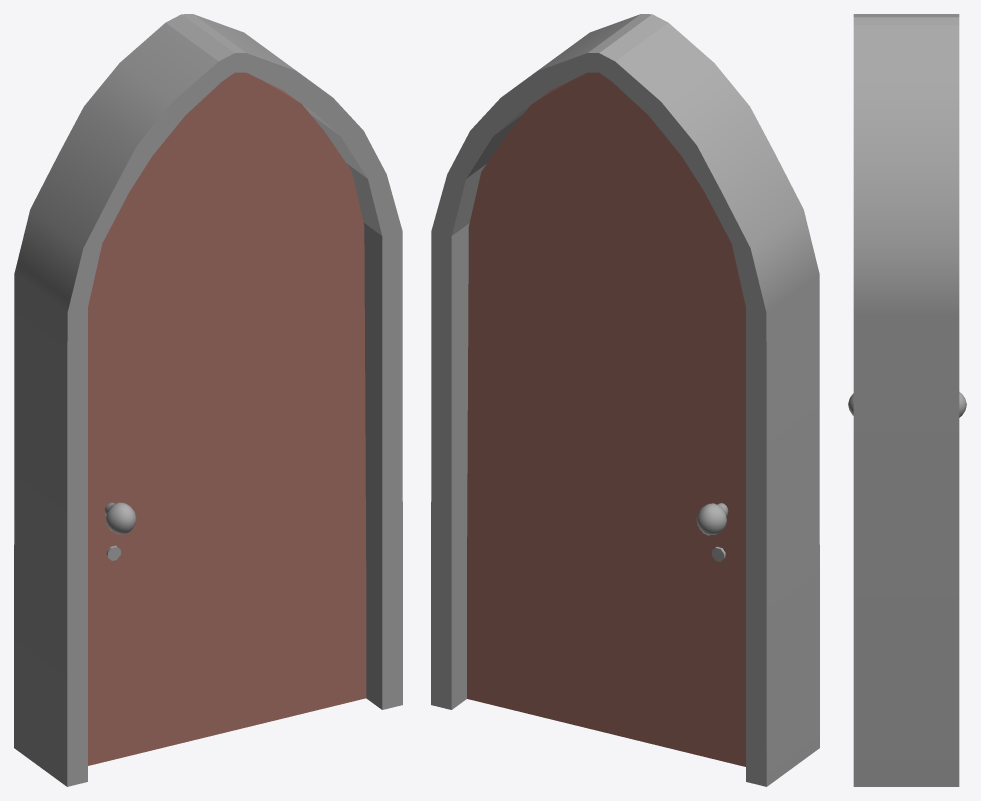
Rendered from Door_gothic1_whole.fbx.
3 views of the same model, side by side, from view 1: azimuth 30°, elevation 25°; view 2: azimuth 150°, elevation 25°; view 3: azimuth 270°, elevation 25° (orthographic).
Parts seen in each view (by area): view 1: door_arch_inner, door_arch1, door_knob; view 2: door_arch_inner, door_arch1, door_knob2; view 3: door_arch1.
Boxes of the visible parts, x1=… form: door_arch_inner: x1=88, y1=72, x2=366, y2=765; door_arch1: x1=14, y1=14, x2=402, y2=786; door_knob: x1=104, y1=502, x2=136, y2=534; door_arch_inner: x1=467, y1=72, x2=745, y2=766; door_arch1: x1=431, y1=14, x2=819, y2=786; door_knob2: x1=696, y1=503, x2=728, y2=535; door_arch1: x1=853, y1=14, x2=959, y2=786.
Bounding box in the file's own units: 6.22 × 12.26 × 1.92.
